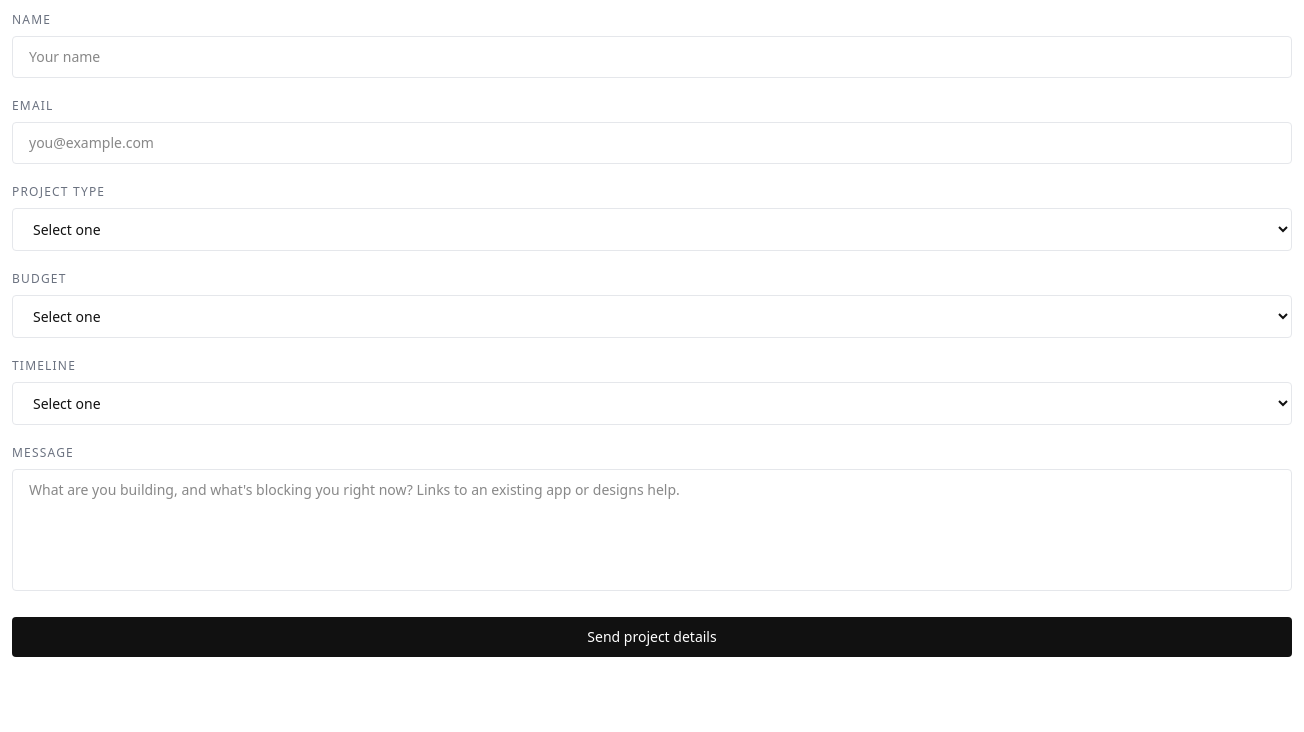
Scenario: ContactForm › shows a success message with the submitted email and clears the name field
The width and height of the screenshot is (1304, 732).
Type "Jane Doe" into the field labelled "Name" at (652, 57), box [12,36,1292,78]
Type "jane@example.com" into the field labelled "Email" at (652, 143), box [12,122,1292,164]
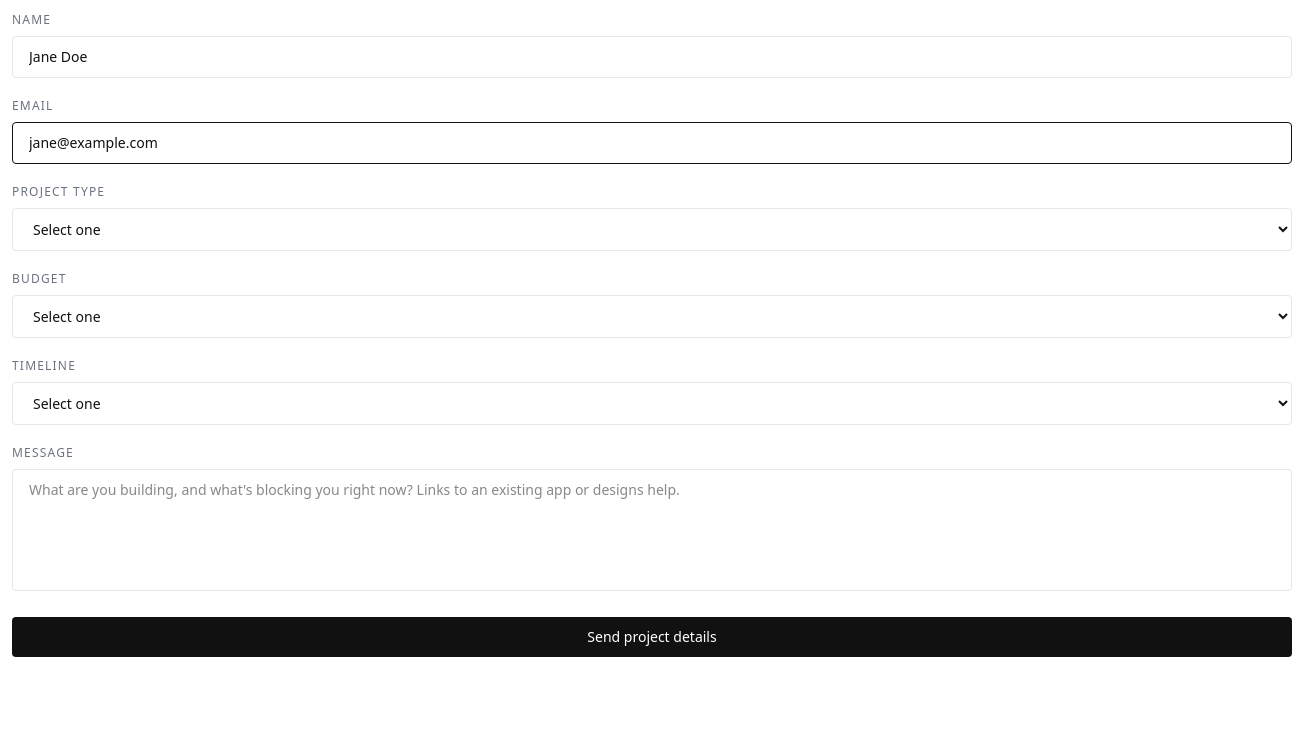
Select "BLE code audit" in the dropdown labelled "Project type" at (652, 230), box [12,208,1292,251]
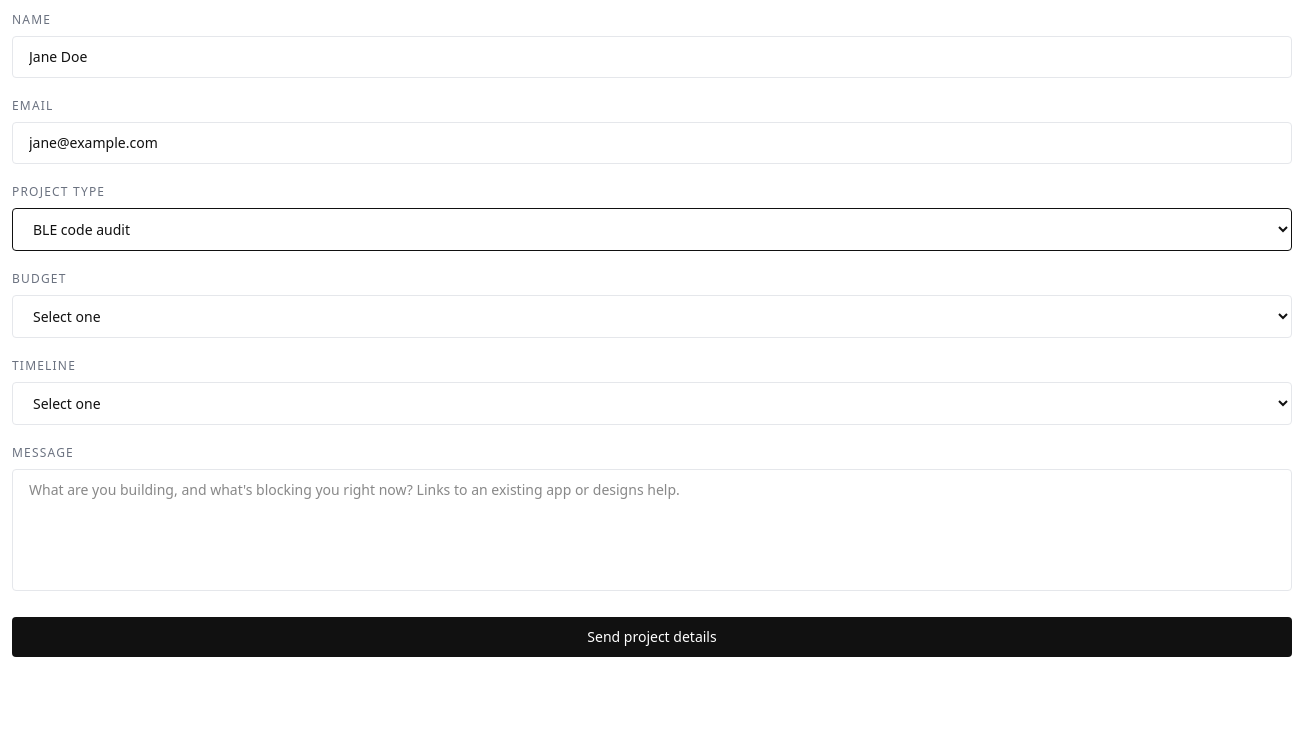
Select "$2k–$5k" in the dropdown labelled "Budget" at (652, 316), box [12,295,1292,338]
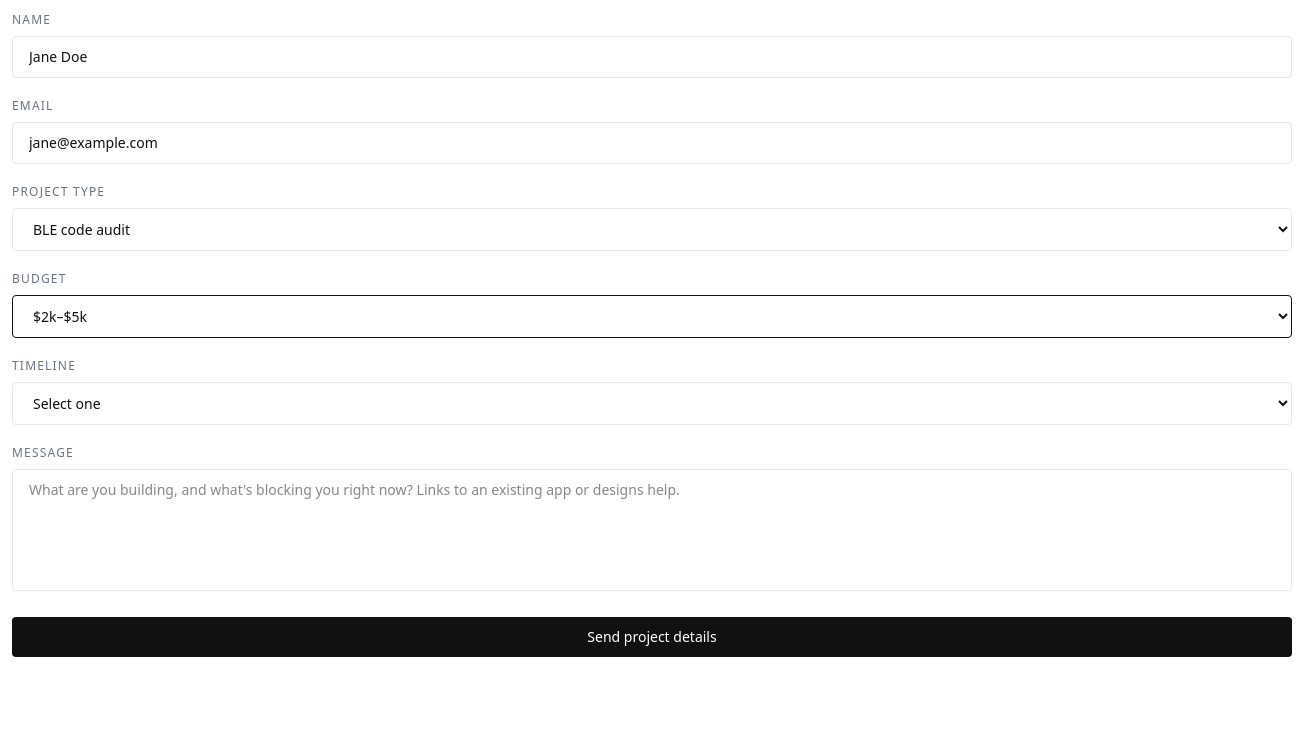
Select "ASAP" in the dropdown labelled "Timeline" at (652, 404), box [12,382,1292,425]
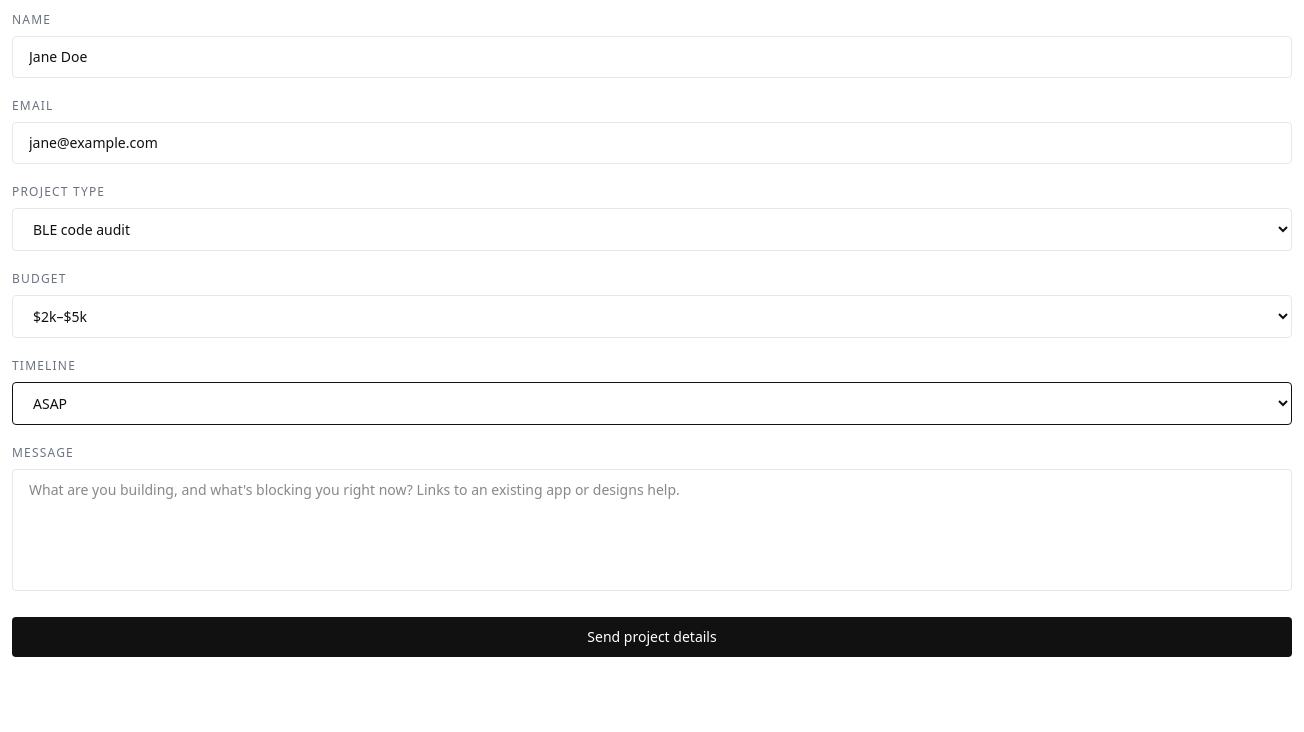
Type "Please help build this." into the text box labelled "Message" at (652, 530), box [12,469,1292,591]
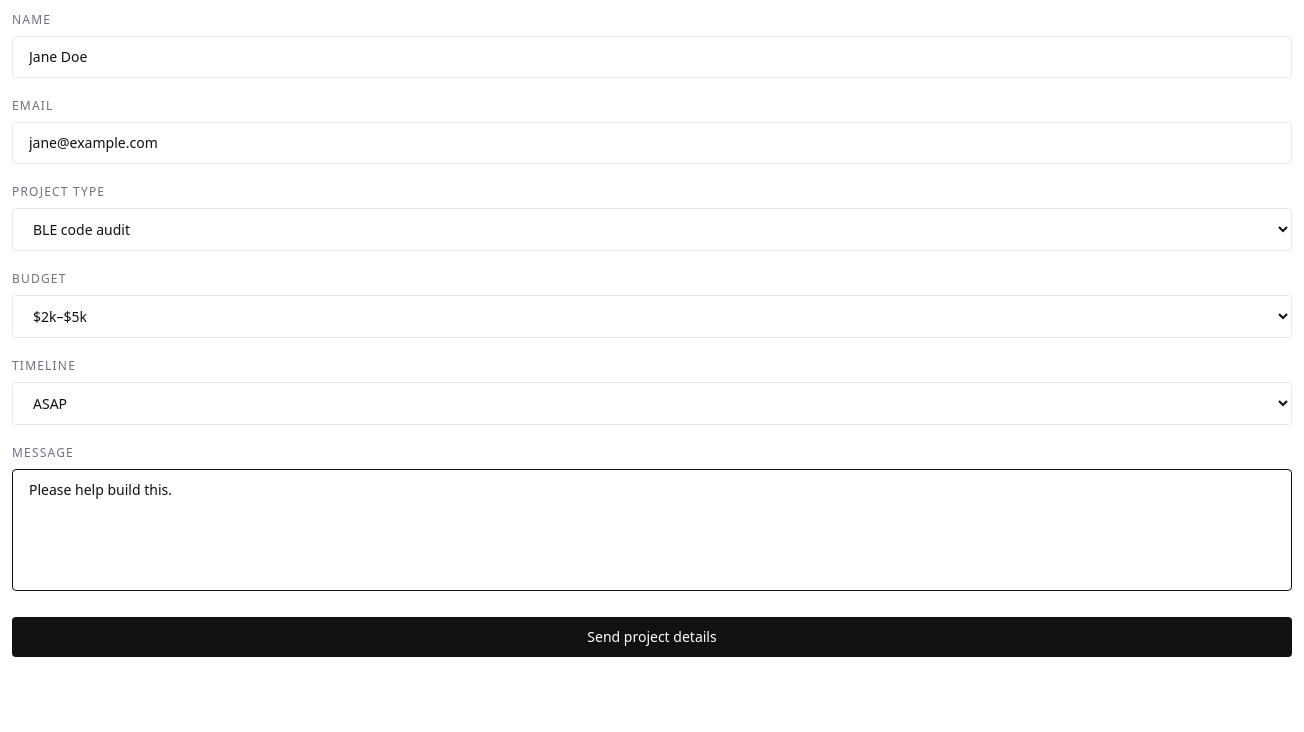
Click the button "Send project details" at (652, 637), box [12,617,1292,657]
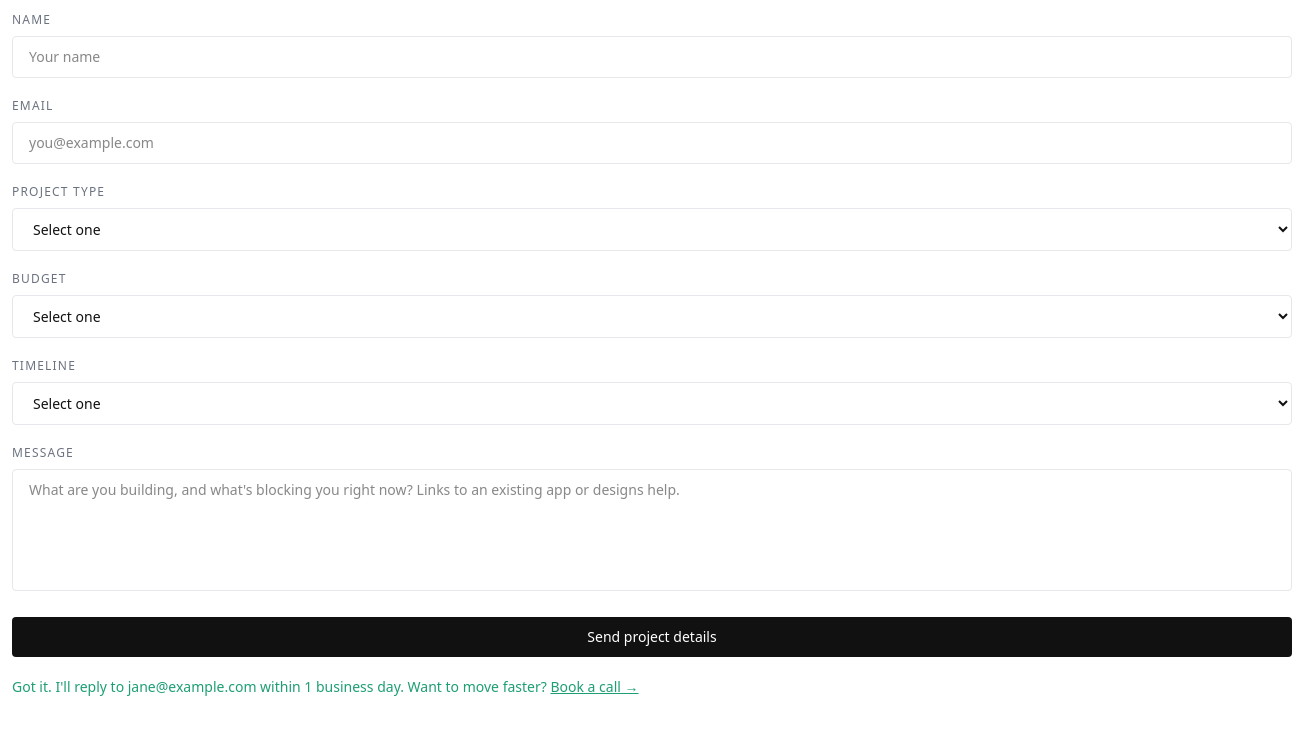
Now the text "jane@example.com" is shown, box [128,677,256,696]
Now the field labelled "Name" is empty, box [12,36,1292,78]
